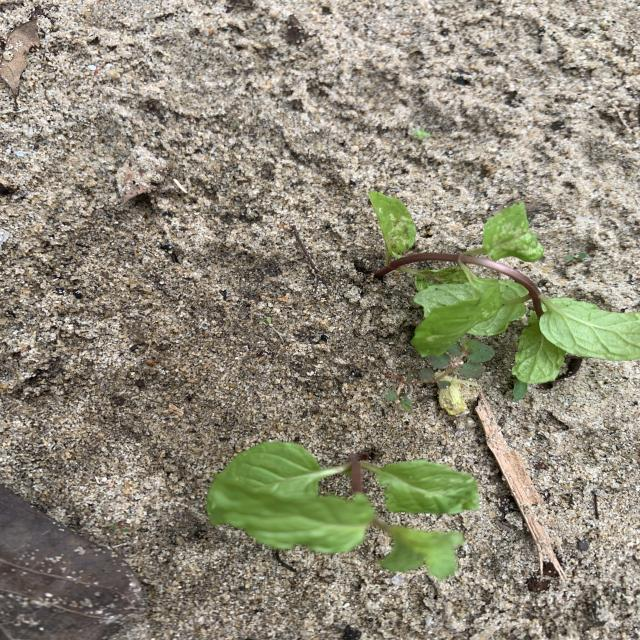crop: (369, 191, 640, 384), (208, 442, 475, 579)
weed: (385, 338, 495, 411), (410, 127, 431, 141), (109, 523, 131, 536)
